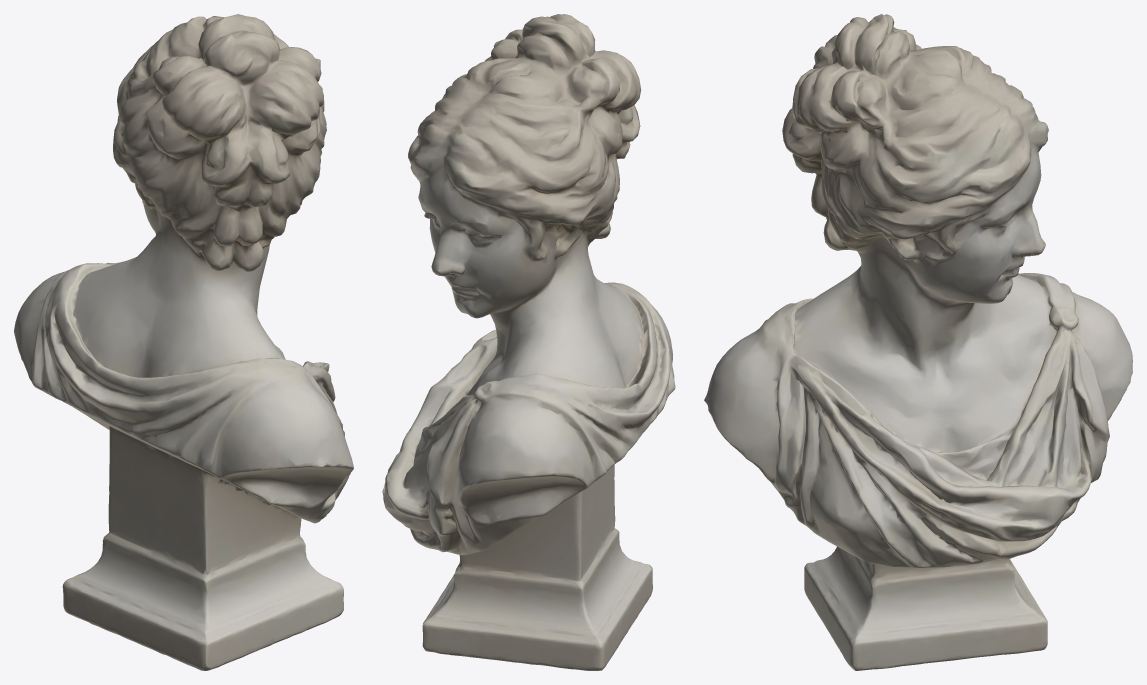
File: ts_bust.glb
3 views of the same model, side by side, from view 1: azimuth 30°, elevation 25°; view 2: azimuth 150°, elevation 25°; view 3: azimuth 270°, elevation 25° (orthographic). The views are drawn at different scales.
Parts seen in each view (by area): view 1: tripo_node_bee6ff68-8f66-45e9-b7d1-df7578f0e887; view 2: tripo_node_bee6ff68-8f66-45e9-b7d1-df7578f0e887; view 3: tripo_node_bee6ff68-8f66-45e9-b7d1-df7578f0e887.
Part boxes in pixels (x1,y1,x2,y2): tripo_node_bee6ff68-8f66-45e9-b7d1-df7578f0e887: (14, 14, 353, 670); tripo_node_bee6ff68-8f66-45e9-b7d1-df7578f0e887: (382, 14, 675, 670); tripo_node_bee6ff68-8f66-45e9-b7d1-df7578f0e887: (704, 14, 1132, 670).
Size of the model in its own units: 0.4208 by 1 by 0.6413.
Materials: 1 (1 with a texture image).
